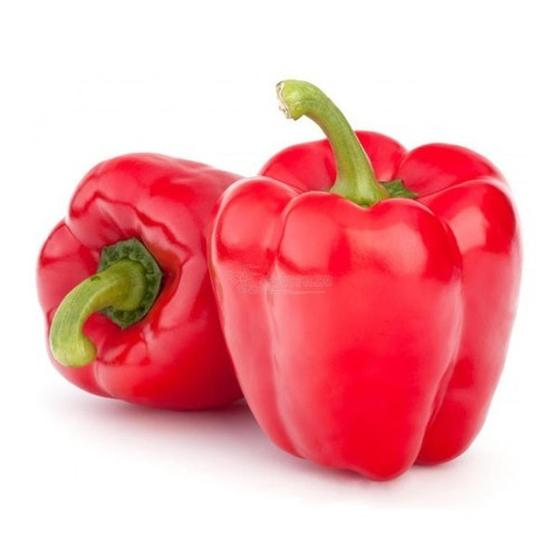pepper: (220, 129, 520, 488), (41, 151, 220, 408)
